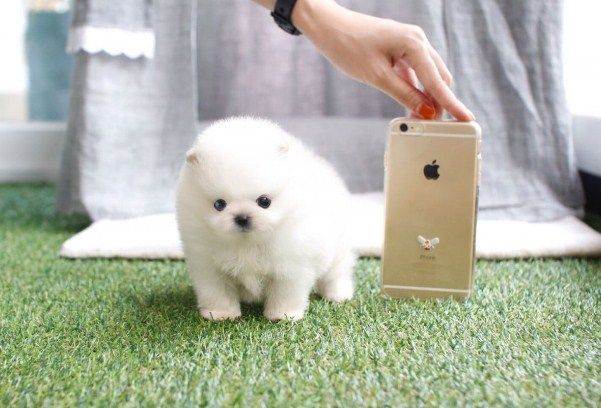pomeranian: (176, 110, 371, 330)
